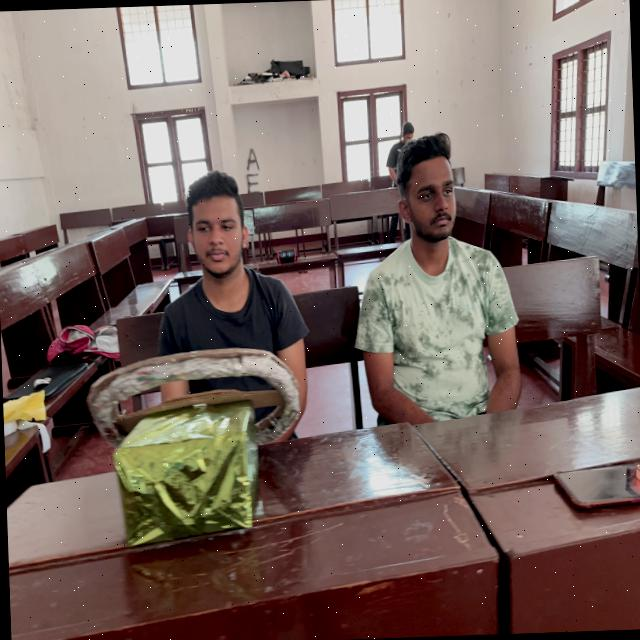no-seatbelt: (356, 237, 526, 429), (154, 274, 310, 467)
